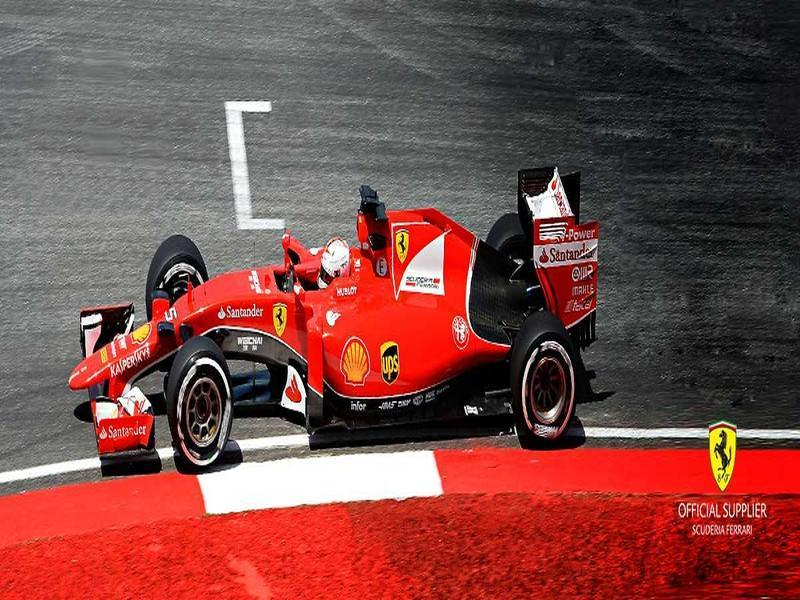f1: (39, 180, 682, 496)
